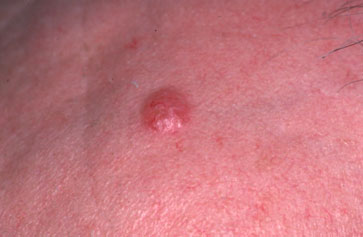melanoma: (104, 48, 218, 162)
